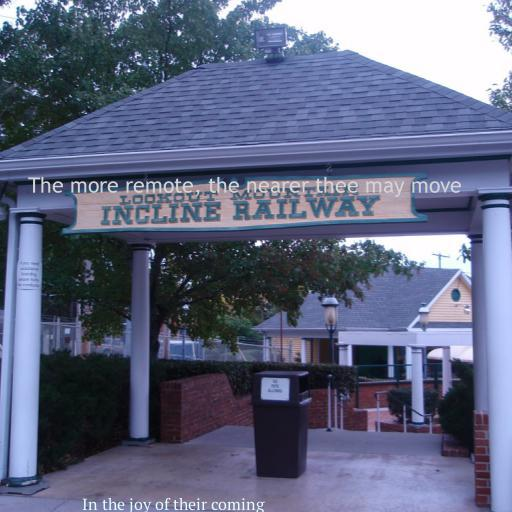PT Serif: (82, 497, 264, 512)
Trebuchet MS: (28, 176, 462, 198)
